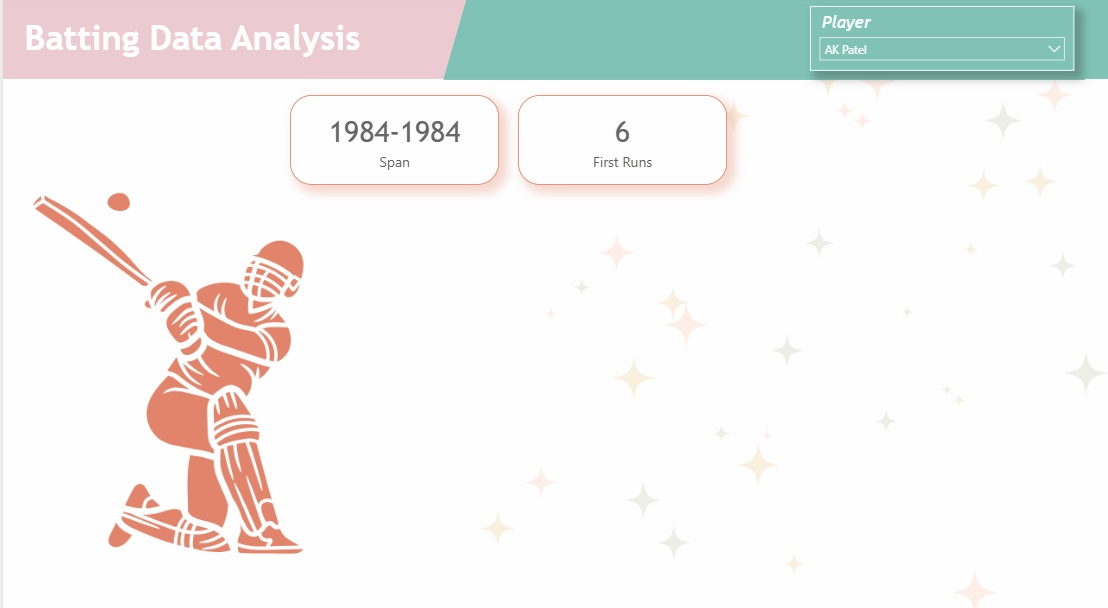

The page's visual inventory and layout, read from the dashboard file:
{"tool":"powerbi","page":{"name":"Batting","canvas":[1280,720],"ordinal":0},"visuals":[{"type":"group","id":"g1","title":"Group 1","box":[0,0,1280.3,97.2],"z":0},{"type":"shape","box":[0,0,972.3,96.1],"z":0,"group":"g1"},{"type":"shape","box":[509.3,0.9,770.9,96.1],"z":1000,"group":"g1"},{"type":"slicer","fields":{"Values":["Batting Data.Player"]},"box":[933.7,12,306,74.7],"z":1000},{"type":"shape","box":[1107.8,0,172.5,96.1],"z":2000,"group":"g1"},{"type":"card","fields":{"Values":["Batting Data.Span"]},"box":[332.5,114.5,242.2,103.6],"z":2000},{"type":"card","fields":{"Values":["Batting Data.Runs"]},"box":[596.4,114.5,242.2,103.6],"z":3000}]}

Visuals, with their boxes in screenshot pixels (x1, y1, x2, y2), scaled from the page's 1280x720 canvas onto the 1108x608 screenshot:
"Group 1" group: detection(0, 0, 1107, 82)
shape: detection(0, 0, 842, 81)
shape: detection(441, 1, 1107, 82)
slicer - Batting Data.Player: detection(808, 10, 1073, 73)
shape: detection(959, 0, 1107, 81)
card - Batting Data.Span: detection(288, 97, 497, 184)
card - Batting Data.Runs: detection(516, 97, 726, 184)
